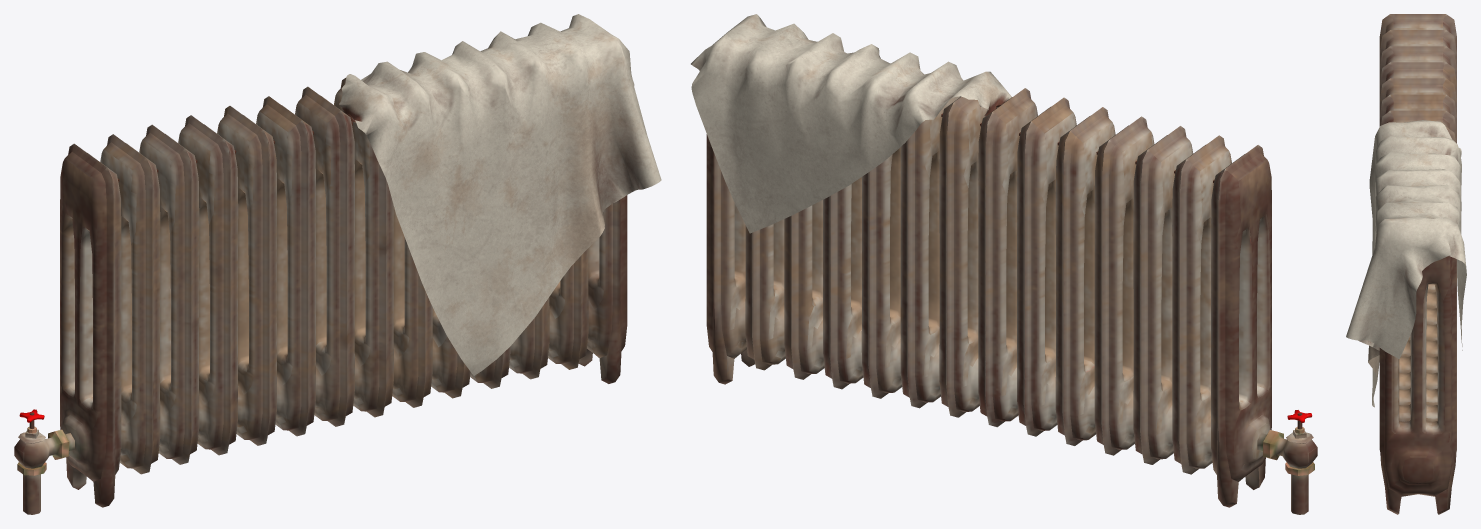
3 renders of one model, left to right at view 1: azimuth 30°, elevation 25°; view 2: azimuth 150°, elevation 25°; view 3: azimuth 270°, elevation 25°, orthographic. The views are drawn at different scales.
Parts seen in each view (by area): view 1: Radiator_low, Plane_1; view 2: Radiator_low, Plane_1; view 3: Radiator_low, Plane_1.
Boxes of the visible parts, x1=… form: Radiator_low: x1=14, y1=77, x2=627, y2=514; Plane_1: x1=339, y1=14, x2=661, y2=375; Radiator_low: x1=706, y1=88, x2=1317, y2=514; Plane_1: x1=691, y1=14, x2=1011, y2=233; Radiator_low: x1=1379, y1=14, x2=1456, y2=514; Plane_1: x1=1346, y1=120, x2=1466, y2=407.
Bounding box in the file's own units: 316 × 172 × 63.39.
Materials: 2 (2 with a texture image).
